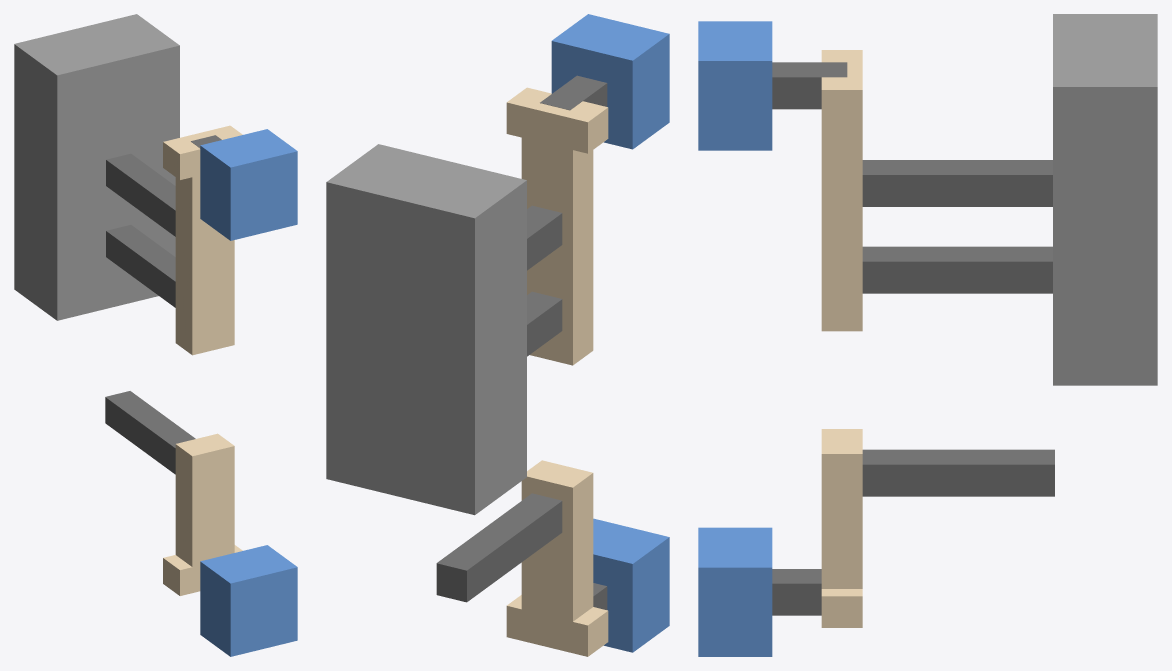
File: sky130_fd_sc_hd__tapvpwrvgnd_1.gds.gltf
3 views of the same model, side by side, from view 1: azimuth 30°, elevation 25°; view 2: azimuth 150°, elevation 25°; view 3: azimuth 270°, elevation 25° (orthographic). The views are drawn at different scales.
Parts seen in each view (by area): view 1: sky130_fd_sc_hd__tapvpwrvgnd_1_nwell, sky130_fd_sc_hd__tapvpwrvgnd_1_li1, sky130_fd_sc_hd__tapvpwrvgnd_1_met1, sky130_fd_sc_hd__tapvpwrvgnd_1_licon; view 2: sky130_fd_sc_hd__tapvpwrvgnd_1_nwell, sky130_fd_sc_hd__tapvpwrvgnd_1_li1, sky130_fd_sc_hd__tapvpwrvgnd_1_met1, sky130_fd_sc_hd__tapvpwrvgnd_1_licon, sky130_fd_sc_hd__tapvpwrvgnd_1_mcon; view 3: sky130_fd_sc_hd__tapvpwrvgnd_1_nwell, sky130_fd_sc_hd__tapvpwrvgnd_1_licon, sky130_fd_sc_hd__tapvpwrvgnd_1_li1, sky130_fd_sc_hd__tapvpwrvgnd_1_met1, sky130_fd_sc_hd__tapvpwrvgnd_1_mcon.
Part boxes in pixels (x1,y1,x2,y2): sky130_fd_sc_hd__tapvpwrvgnd_1_nwell: [14, 14, 179, 320]; sky130_fd_sc_hd__tapvpwrvgnd_1_li1: [163, 125, 242, 595]; sky130_fd_sc_hd__tapvpwrvgnd_1_met1: [200, 129, 297, 656]; sky130_fd_sc_hd__tapvpwrvgnd_1_licon: [105, 153, 195, 474]; sky130_fd_sc_hd__tapvpwrvgnd_1_nwell: [326, 144, 526, 515]; sky130_fd_sc_hd__tapvpwrvgnd_1_li1: [506, 87, 608, 656]; sky130_fd_sc_hd__tapvpwrvgnd_1_met1: [551, 14, 669, 652]; sky130_fd_sc_hd__tapvpwrvgnd_1_licon: [436, 205, 562, 602]; sky130_fd_sc_hd__tapvpwrvgnd_1_mcon: [540, 75, 607, 609]; sky130_fd_sc_hd__tapvpwrvgnd_1_nwell: [1053, 14, 1157, 385]; sky130_fd_sc_hd__tapvpwrvgnd_1_licon: [862, 160, 1054, 496]; sky130_fd_sc_hd__tapvpwrvgnd_1_li1: [821, 50, 862, 627]; sky130_fd_sc_hd__tapvpwrvgnd_1_met1: [698, 21, 772, 656]; sky130_fd_sc_hd__tapvpwrvgnd_1_mcon: [772, 62, 847, 615].
Size of the model in its own units: 0.84 by 3.2 by 2.24.
